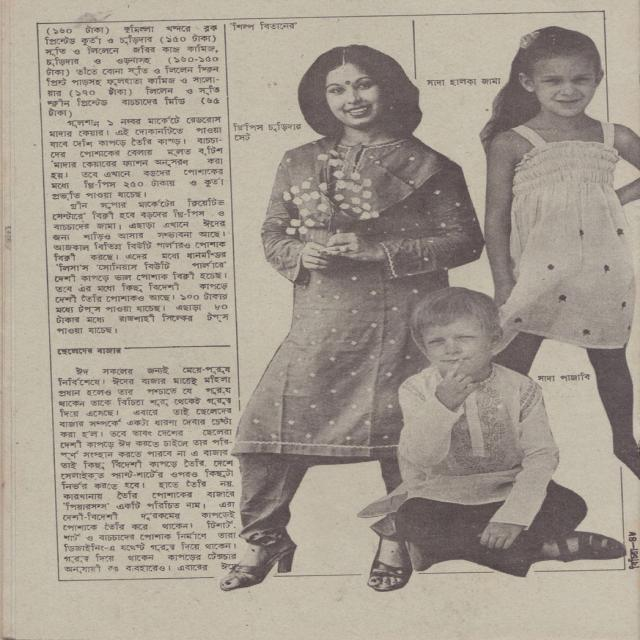caption: (233, 121, 302, 141), (230, 21, 297, 31), (426, 78, 502, 86), (536, 372, 590, 382)
image: (220, 26, 638, 592)
page number: (628, 531, 638, 542)
paragraph: (54, 365, 238, 579), (52, 197, 231, 337), (43, 24, 221, 116), (47, 114, 225, 202)
text: (628, 548, 639, 568)
title: (57, 347, 122, 355)
